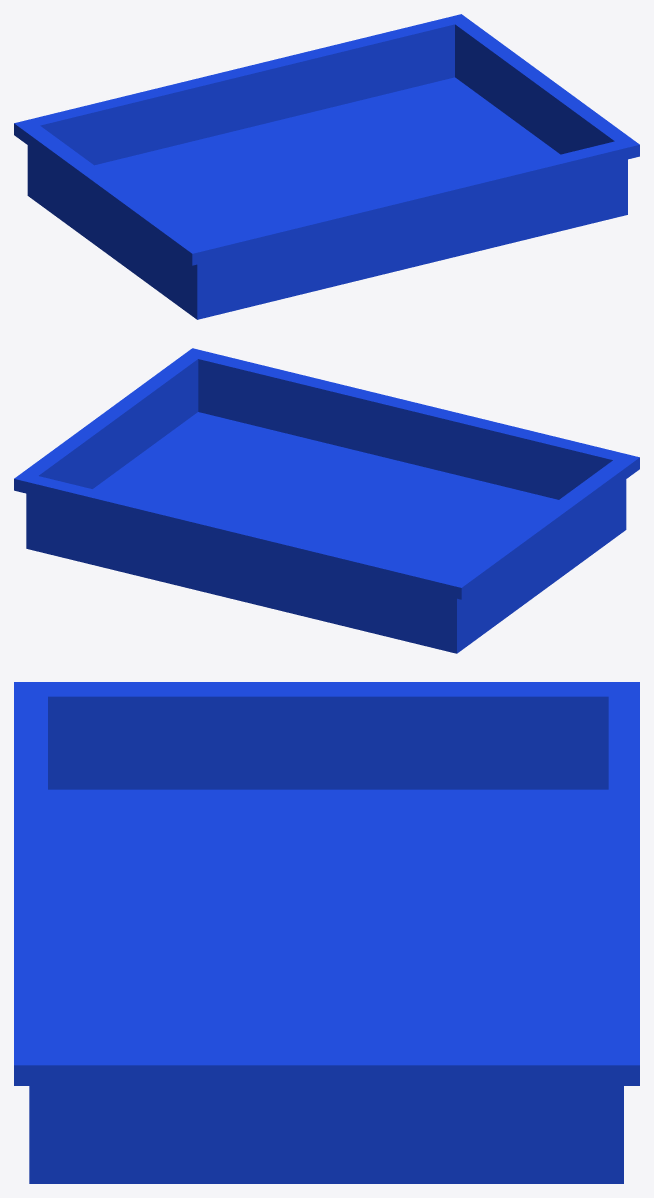
The model's file is Storage_Tray.FBX.
3 views of the same model, one above another, from view 1: azimuth 30°, elevation 25°; view 2: azimuth 150°, elevation 25°; view 3: azimuth 270°, elevation 25° (orthographic). The views are drawn at different scales.
Parts seen in each view (by area): view 1: Storage_Tray; view 2: Storage_Tray; view 3: Storage_Tray.
Boxes of the visible parts, x1,y1,x2,y2 form: Storage_Tray: (14,14,639,319); Storage_Tray: (14,348,639,653); Storage_Tray: (14,682,639,1183).
Size of the model in its own units: 40.76 by 6.22 by 28.15.
